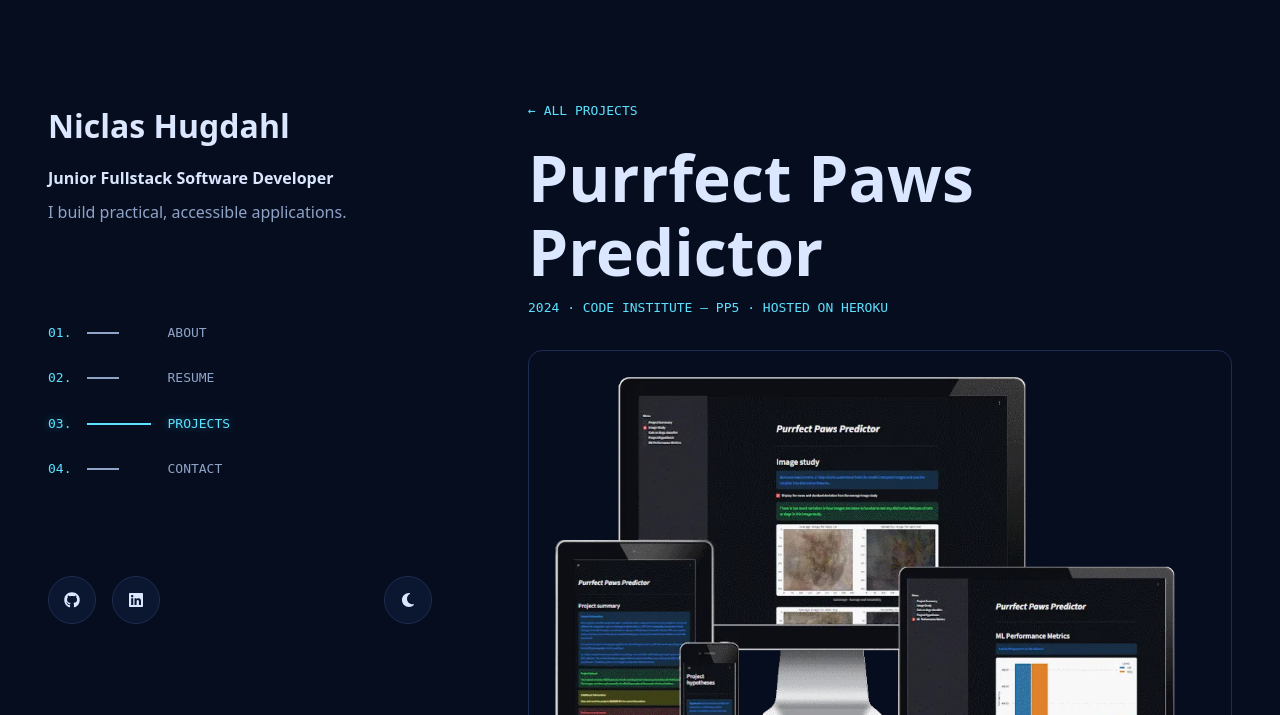
it: projects flow › returns to the full list when the detail page was opened directly
Expected: the heading "Purrfect Paws Predictor" is shown, [528, 134, 974, 295]
Click the link "← All projects" at [583, 110], box [528, 103, 638, 118]
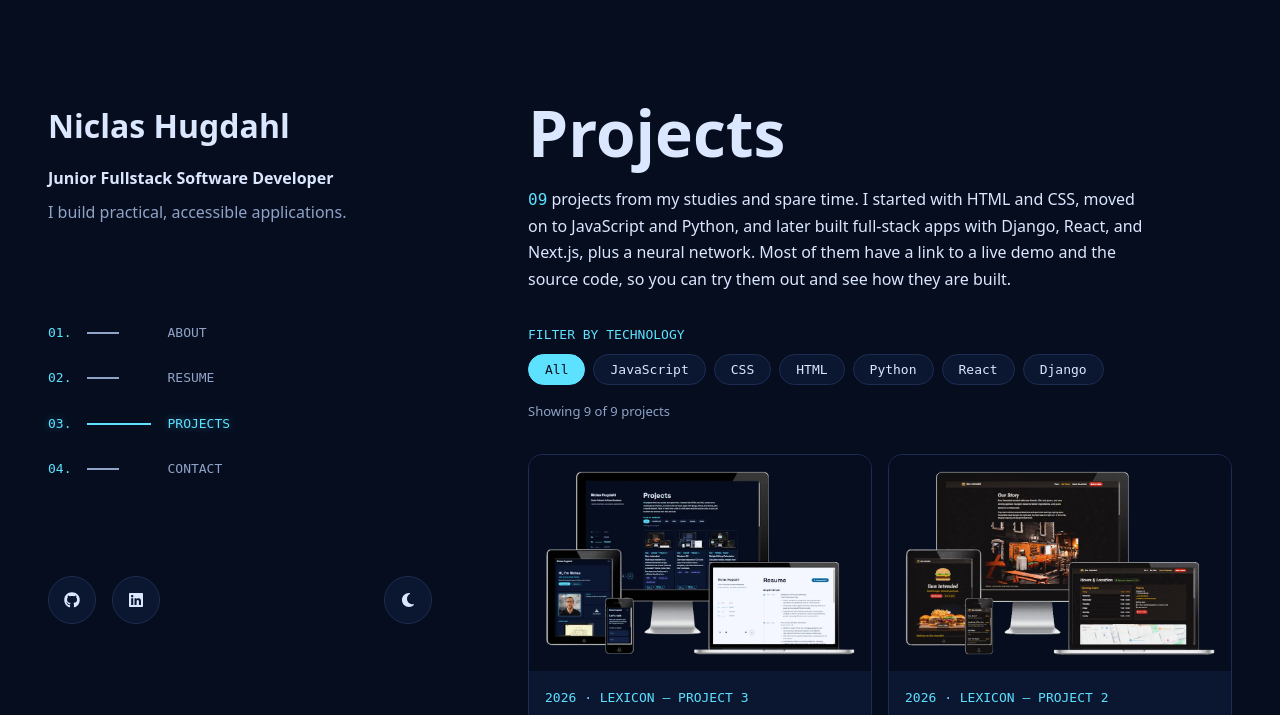
Expected: the heading "Projects" is shown, [528, 89, 785, 176]
